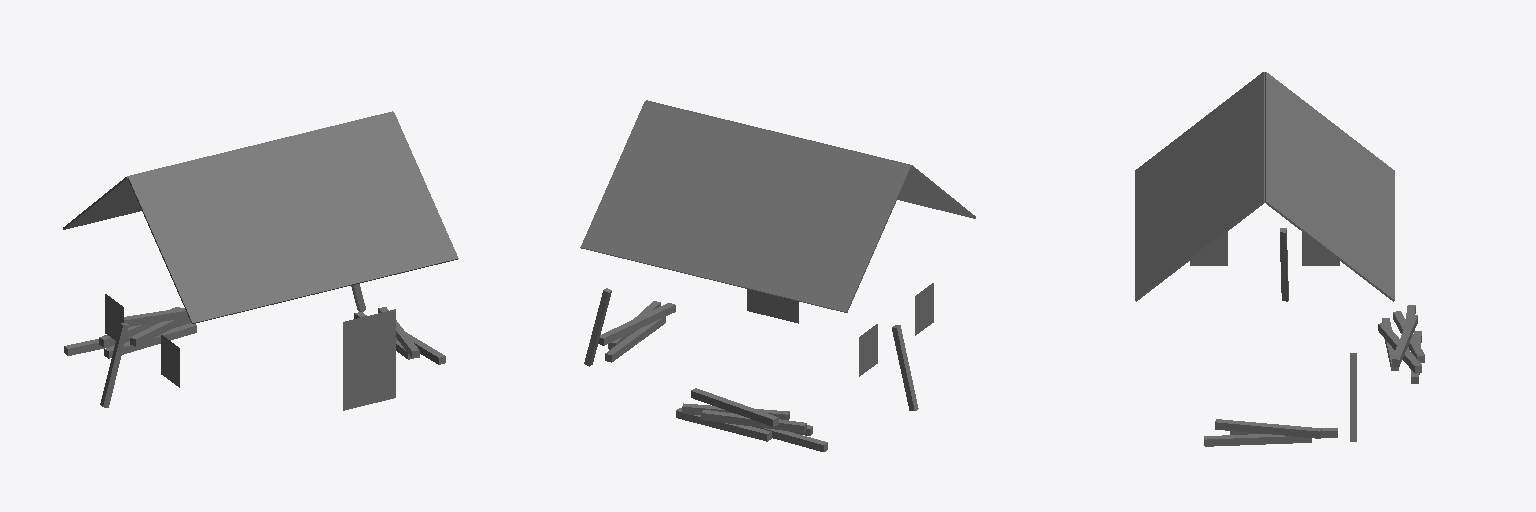
The model's file is madera.obj.
3 renders of one model, left to right at view 1: azimuth 30°, elevation 25°; view 2: azimuth 150°, elevation 25°; view 3: azimuth 270°, elevation 25°, orthographic.
Visible parts, largest first — view 1: Cube_001, Plane, Cube_002_Cube_001, Cube_013_Cube_002, Plane_004_Plane_001, Cube_007_Cube_002, Cube_012_Cube_002, Plane_005_Plane_001, Cube_010_Cube_002; view 2: Cube_002_Cube_001, Cube_001, Plane, Cube_012_Cube_002, Cube_011_Cube_002, Cube_005_Cube_002, Cube_009_Cube_002, Cube_013_Cube_002, Plane_005_Plane_001, Plane_004_Plane_001, Cube_003_Cube_002, Cube_006_Cube_002 (+1 smaller); view 3: Cube_001, Cube_002_Cube_001, Cube_005_Cube_002, Cube_004_Cube_002, Plane_004_Plane_001, Plane_005_Plane_001, Cube_006_Cube_002, Cube_010_Cube_002, Cube_012_Cube_002, Cube_013_Cube_002.
Boxes of the visible parts, x1=… form: Cube_001: x1=128, y1=112, x2=458, y2=323; Plane: x1=343, y1=309, x2=395, y2=410; Cube_002_Cube_001: x1=63, y1=111, x2=392, y2=229; Cube_013_Cube_002: x1=100, y1=323, x2=128, y2=407; Plane_004_Plane_001: x1=161, y1=335, x2=179, y2=387; Cube_007_Cube_002: x1=104, y1=323, x2=196, y2=358; Cube_012_Cube_002: x1=124, y1=308, x2=188, y2=326; Plane_005_Plane_001: x1=105, y1=294, x2=123, y2=340; Cube_010_Cube_002: x1=130, y1=318, x2=189, y2=346; Cube_002_Cube_001: x1=580, y1=101, x2=910, y2=312; Cube_001: x1=646, y1=100, x2=975, y2=218; Plane: x1=747, y1=289, x2=798, y2=323; Cube_012_Cube_002: x1=691, y1=388, x2=778, y2=426; Cube_011_Cube_002: x1=701, y1=410, x2=806, y2=432; Cube_005_Cube_002: x1=598, y1=303, x2=675, y2=345; Cube_009_Cube_002: x1=676, y1=408, x2=771, y2=441; Cube_013_Cube_002: x1=892, y1=325, x2=918, y2=410; Plane_005_Plane_001: x1=859, y1=324, x2=877, y2=376; Plane_004_Plane_001: x1=915, y1=283, x2=933, y2=335; Cube_003_Cube_002: x1=605, y1=317, x2=665, y2=362; Cube_006_Cube_002: x1=584, y1=288, x2=611, y2=366; Cube_001: x1=1135, y1=72, x2=1264, y2=301; Cube_002_Cube_001: x1=1265, y1=72, x2=1394, y2=301; Cube_005_Cube_002: x1=1215, y1=419, x2=1321, y2=438; Cube_004_Cube_002: x1=1204, y1=434, x2=1311, y2=446; Plane_004_Plane_001: x1=1190, y1=232, x2=1227, y2=265; Plane_005_Plane_001: x1=1302, y1=232, x2=1339, y2=265; Cube_006_Cube_002: x1=1350, y1=353, x2=1356, y2=441; Cube_010_Cube_002: x1=1378, y1=323, x2=1421, y2=373; Cube_012_Cube_002: x1=1392, y1=314, x2=1417, y2=366; Cube_013_Cube_002: x1=1280, y1=228, x2=1288, y2=301.
Size of the model in its own units: 4.92 by 3.66 by 4.07.